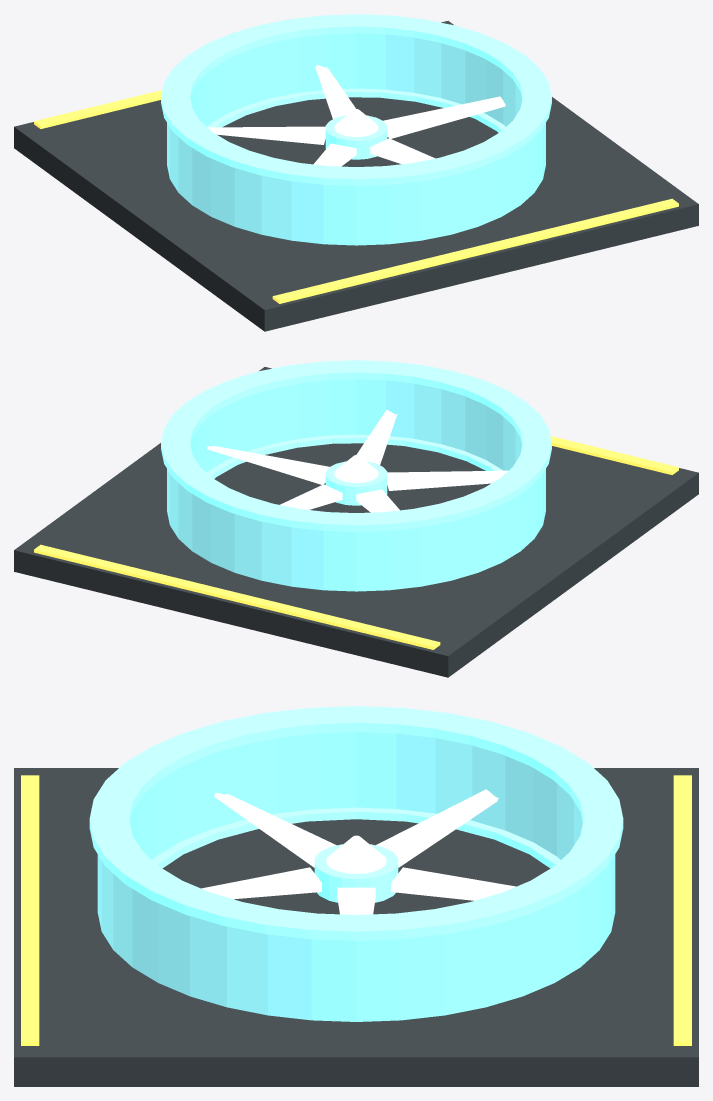
File: fan.glb
3 renders of one model, top to bottom at view 1: azimuth 30°, elevation 25°; view 2: azimuth 150°, elevation 25°; view 3: azimuth 270°, elevation 25°, orthographic. The views are drawn at different scales.
Parts seen in each view (by area): view 1: Base-convcol, Cowling, Lip, Hazard1, Well, Blade1, Blade3, Hazard2, Hub, Blade2, Blade5, Nose (+1 smaller); view 2: Base-convcol, Cowling, Lip, Hazard2, Well, Blade4, Blade1, Hazard1, Hub, Blade5, Blade2, Nose (+1 smaller); view 3: Base-convcol, Cowling, Lip, Hazard1, Hazard2, Well, Blade3, Blade2, Hub, Blade4, Blade5, Nose (+1 smaller).
Boxes of the visible parts, left/top/right/bottom form: Base-convcol: left=14, top=21, right=698, bottom=331; Cowling: left=167, top=33, right=545, bottom=245; Lip: left=161, top=14, right=551, bottom=185; Hazard1: left=272, top=198, right=678, bottom=303; Well: left=207, top=88, right=505, bottom=132; Blade1: left=383, top=96, right=505, bottom=138; Blade3: left=207, top=126, right=325, bottom=144; Hazard2: left=34, top=90, right=162, bottom=128; Hub: left=325, top=115, right=387, bottom=159; Blade2: left=315, top=65, right=355, bottom=118; Blade5: left=370, top=138, right=435, bottom=164; Nose: left=334, top=109, right=378, bottom=136; Base-convcol: left=14, top=367, right=698, bottom=677; Cowling: left=167, top=379, right=545, bottom=591; Lip: left=161, top=360, right=551, bottom=531; Hazard2: left=34, top=544, right=440, bottom=649; Well: left=207, top=434, right=502, bottom=478; Blade4: left=387, top=470, right=507, bottom=490; Blade1: left=207, top=445, right=329, bottom=484; Hazard1: left=550, top=436, right=678, bottom=474; Hub: left=325, top=461, right=387, bottom=505; Blade5: left=356, top=410, right=397, bottom=464; Blade2: left=280, top=484, right=342, bottom=509; Nose: left=334, top=455, right=378, bottom=482; Base-convcol: left=14, top=768, right=698, bottom=1086; Cowling: left=97, top=732, right=615, bottom=1021; Lip: left=89, top=706, right=623, bottom=940; Hazard1: left=21, top=775, right=39, bottom=1045; Hazard2: left=673, top=775, right=691, bottom=1045; Well: left=152, top=807, right=560, bottom=868; Blade3: left=376, top=789, right=498, bottom=867; Blade2: left=391, top=867, right=515, bottom=900; Hub: left=314, top=844, right=398, bottom=902; Blade4: left=214, top=792, right=336, bottom=867; Blade5: left=201, top=867, right=321, bottom=899; Nose: left=326, top=835, right=386, bottom=873.
Bounding box in the file's own units: 6.75 × 1.34 × 6.75.
